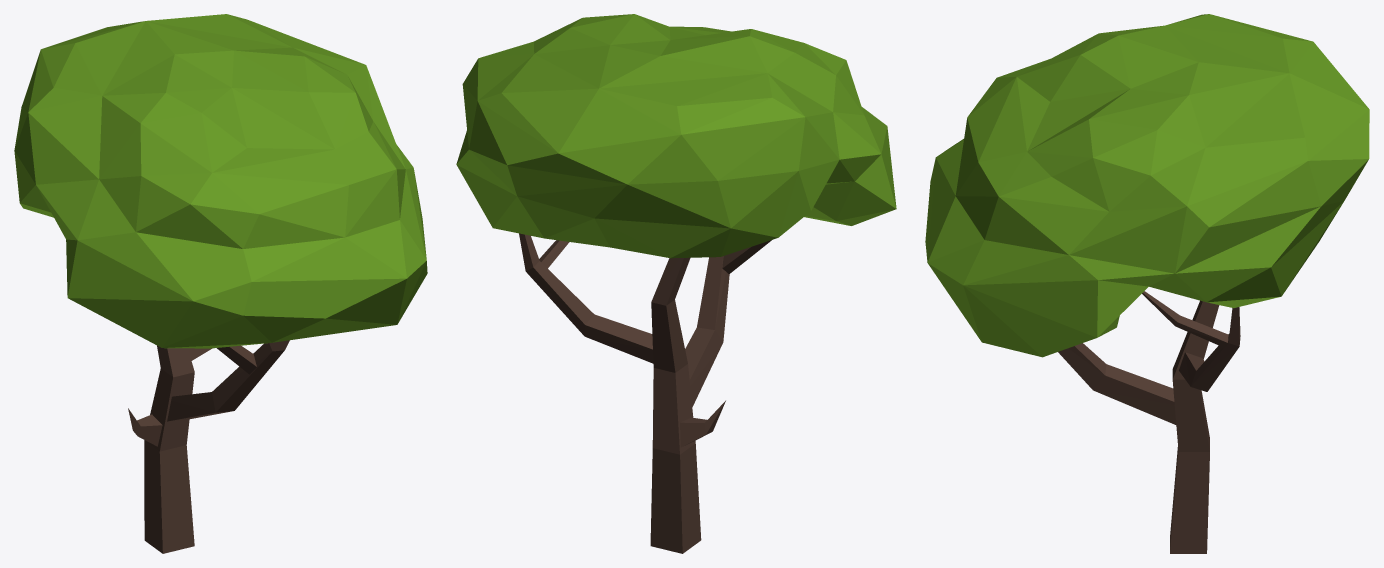
The model's file is tree_1.fbx.
3 views of the same model, side by side, from view 1: azimuth 30°, elevation 25°; view 2: azimuth 150°, elevation 25°; view 3: azimuth 270°, elevation 25° (orthographic).
Visible parts, largest first — view 1: tree_1; view 2: tree_1; view 3: tree_1.
Part boxes in pixels (box(x1,y1,x2,y2)): tree_1: box(14, 14, 427, 553); tree_1: box(456, 14, 896, 553); tree_1: box(925, 14, 1369, 553).
Size of the model in its own units: 620 by 781 by 640.
